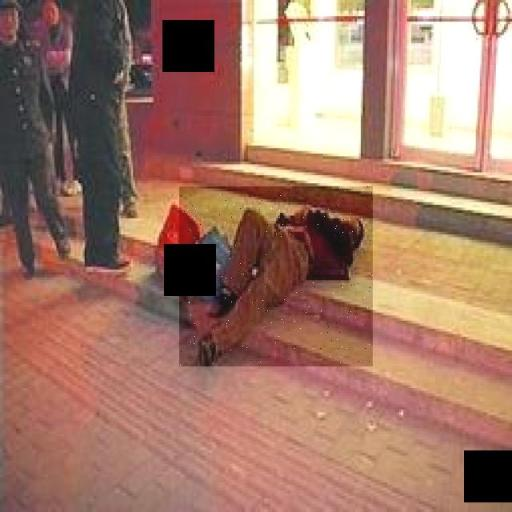Fall: (179, 187, 373, 367)
